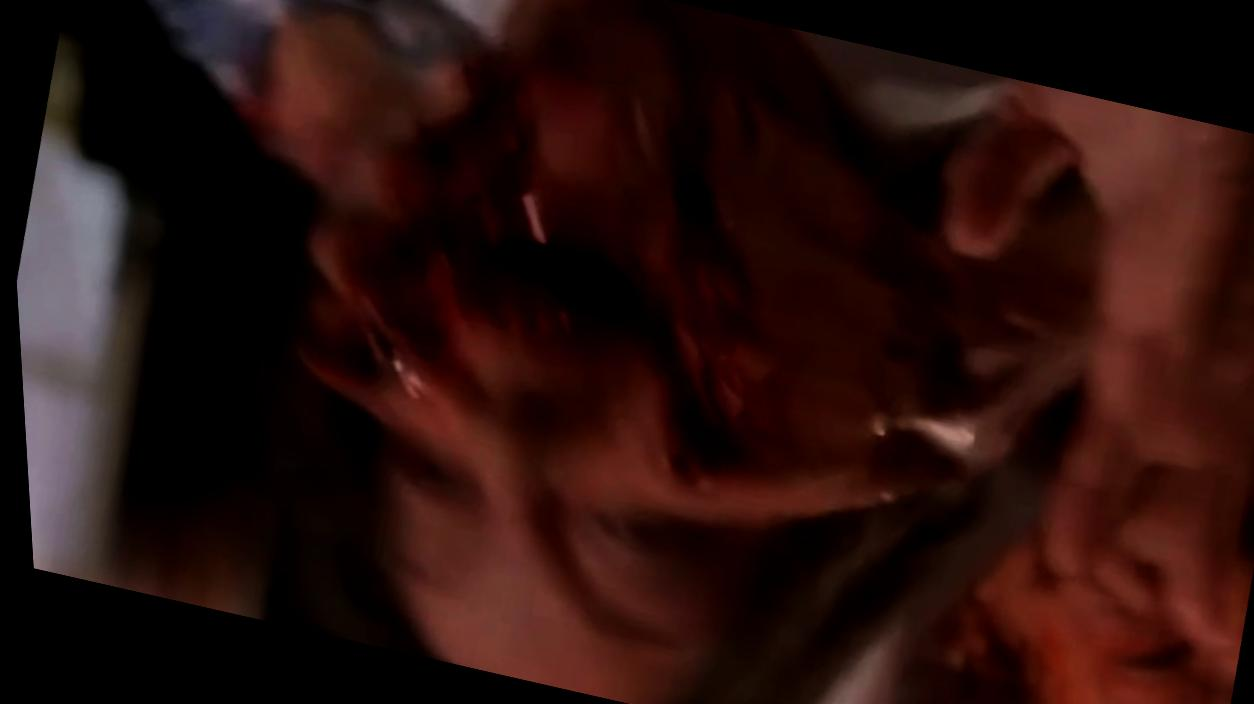Fire: (275, 0, 972, 512)
